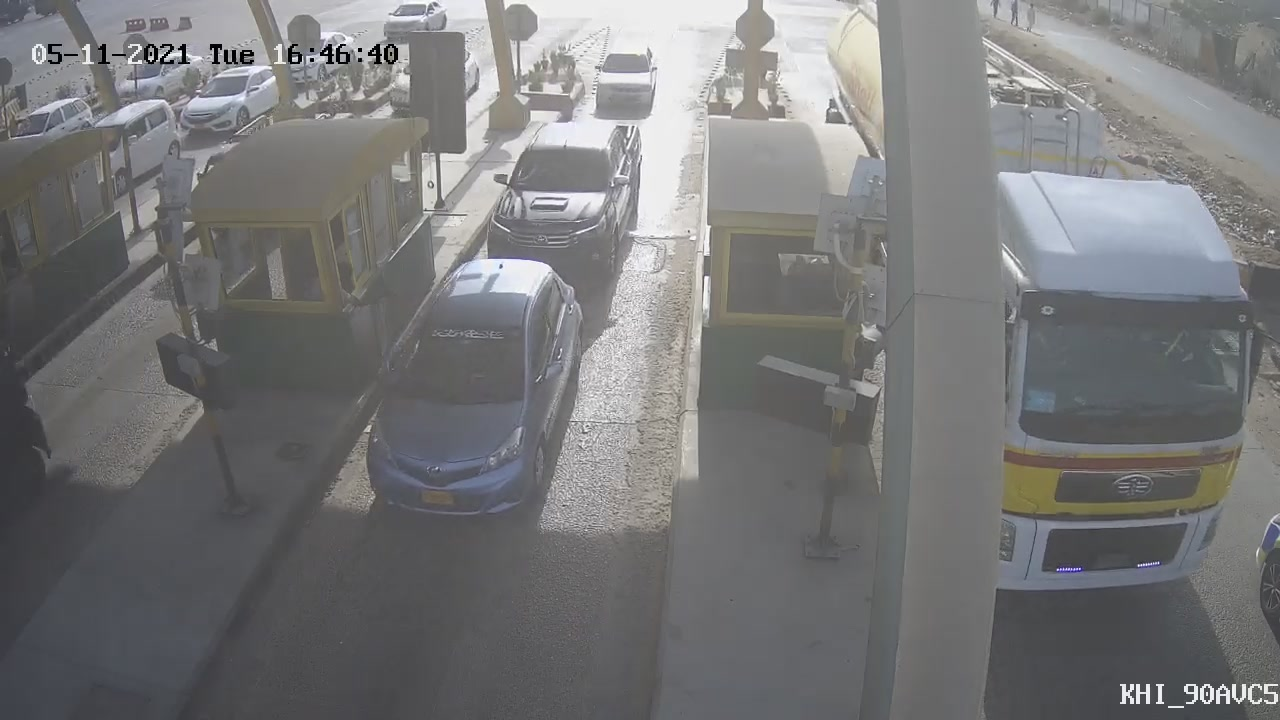F1: (351, 239, 601, 538), (481, 104, 657, 290)
